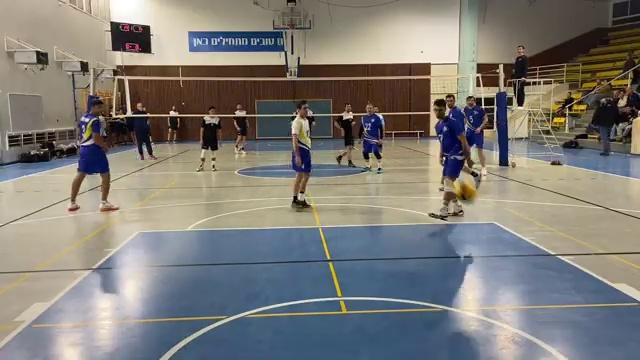ball: (454, 181, 481, 206)
